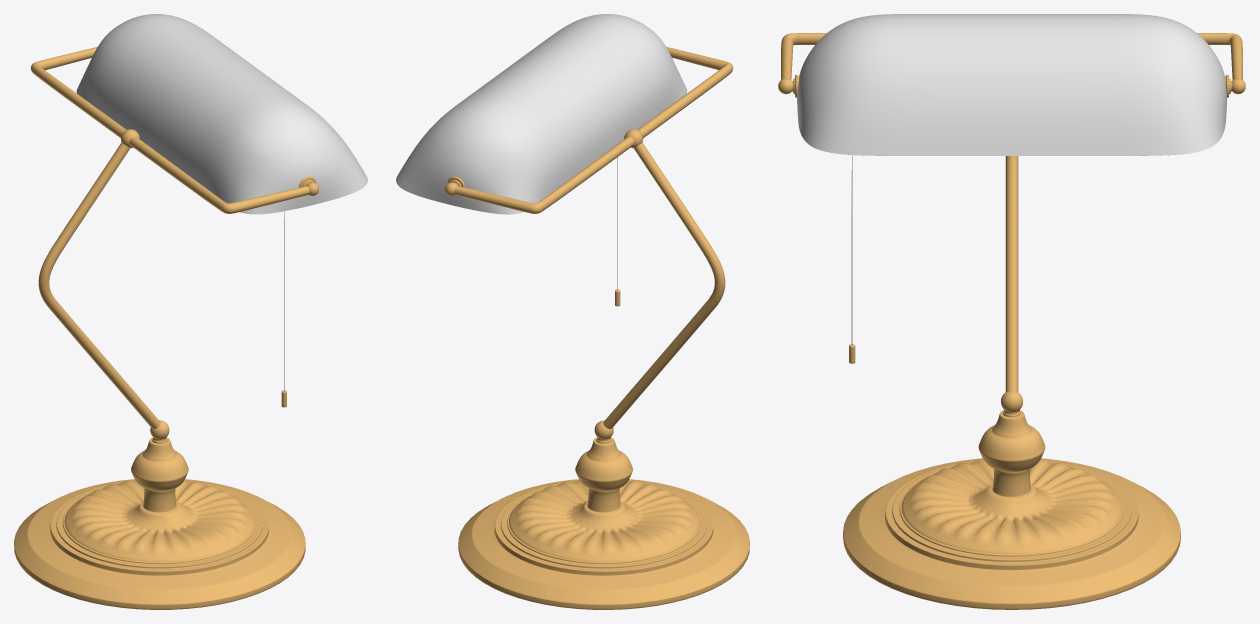
The model's file is BankerLight.fbx.
3 renders of one model, left to right at view 1: azimuth 30°, elevation 25°; view 2: azimuth 150°, elevation 25°; view 3: azimuth 270°, elevation 25°, orthographic. The views are drawn at different scales.
Visible parts, largest first — view 1: Circle, Lamp, Vert.001, Vert.002; view 2: Circle, Lamp, Vert.001, Vert.002; view 3: Lamp, Circle, Vert.002, Vert.001.
Boxes of the visible parts, x1=… form: Circle: x1=14, y1=420, x2=305, y2=609; Lamp: x1=76, y1=14, x2=367, y2=214; Vert.001: x1=30, y1=47, x2=318, y2=213; Vert.002: x1=38, y1=129, x2=160, y2=428; Circle: x1=458, y1=420, x2=749, y2=609; Lamp: x1=396, y1=14, x2=687, y2=214; Vert.001: x1=445, y1=46, x2=733, y2=213; Vert.002: x1=603, y1=129, x2=725, y2=428; Lamp: x1=797, y1=14, x2=1226, y2=155; Circle: x1=843, y1=391, x2=1180, y2=609; Vert.002: x1=1005, y1=156, x2=1018, y2=391; Vert.001: x1=778, y1=33, x2=1245, y2=97.
Size of what is drawn, in the model's own units: 23.19 by 40.2 by 31.04.
